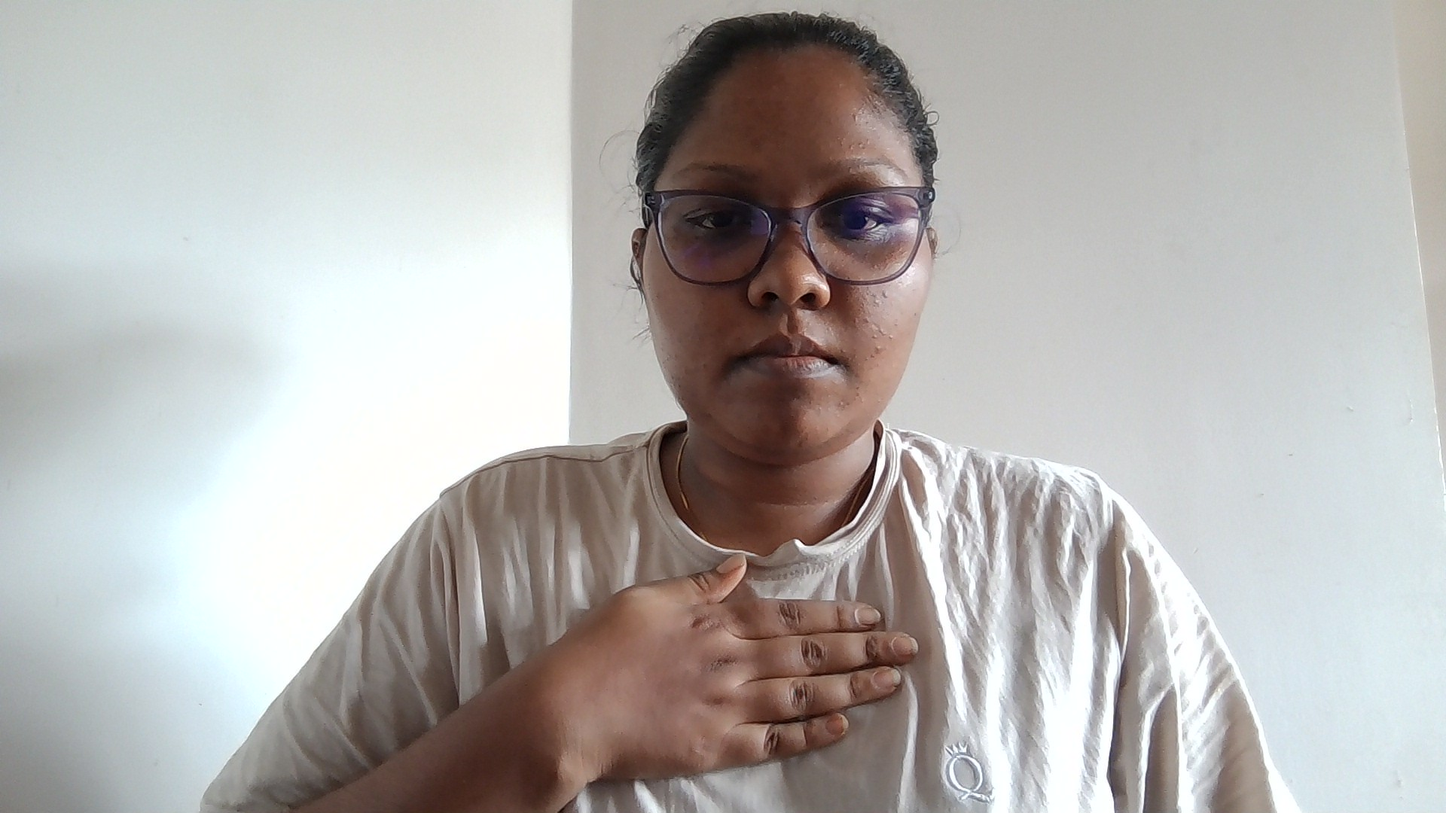Please: (401, 496, 1142, 798)
